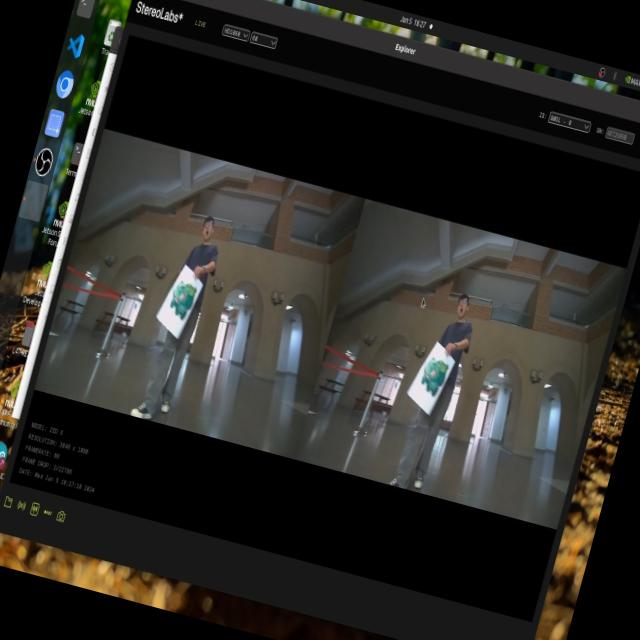green: (162, 271, 206, 331), (414, 352, 457, 410)
